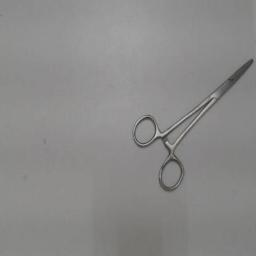Mayo Needle Holder: (128, 48, 254, 196)
